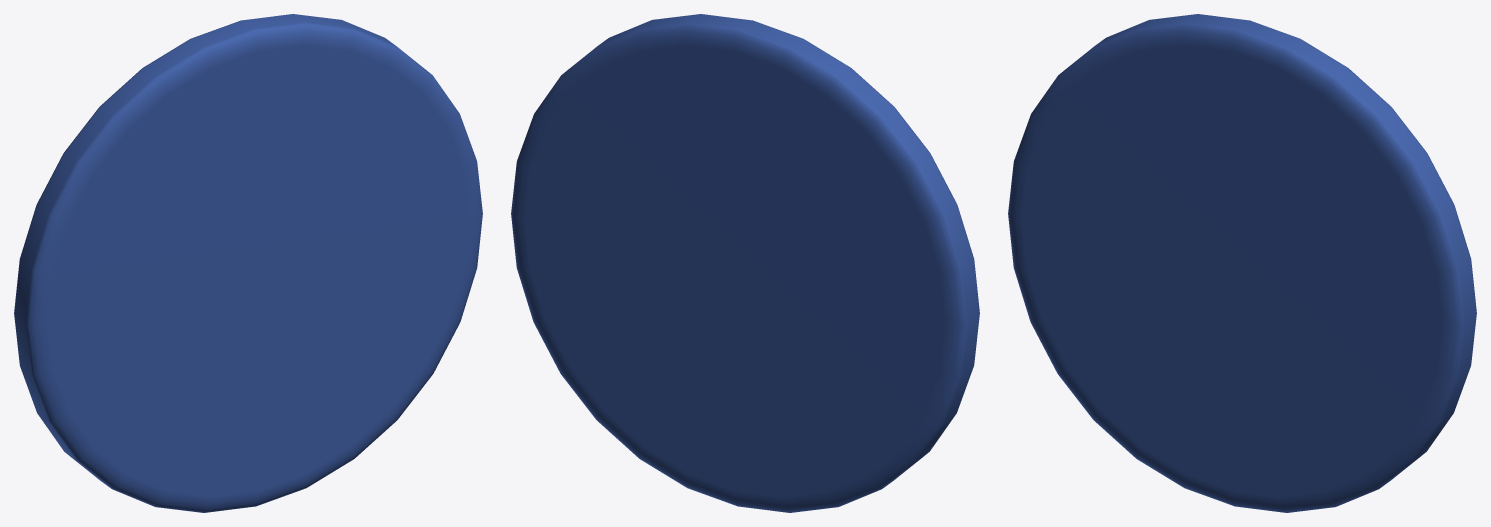
File: Score_C.fbx
3 renders of one model, left to right at view 1: azimuth 30°, elevation 25°; view 2: azimuth 150°, elevation 25°; view 3: azimuth 330°, elevation 25°, orthographic.
Visible parts, largest first — view 1: Score_C; view 2: Score_C; view 3: Score_C.
Part boxes in pixels (box(x1,y1,x2,y2)): Score_C: box(14, 14, 482, 512); Score_C: box(511, 14, 979, 512); Score_C: box(1008, 14, 1476, 512).
Bounding box in the file's own units: 69.83 × 69.83 × 5.56.
